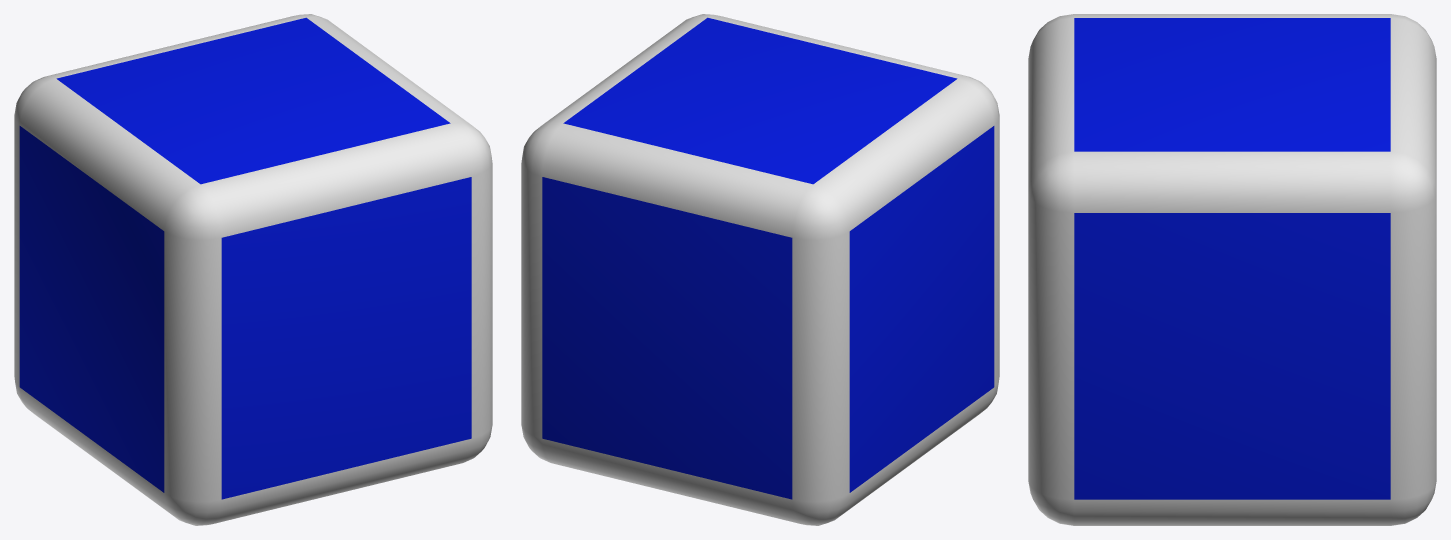
The picture shows the model from 3 angles, left to right: view 1: azimuth 30°, elevation 25°; view 2: azimuth 150°, elevation 25°; view 3: azimuth 270°, elevation 25°; orthographic projection. The views are drawn at different scales.
Parts seen in each view (by area): view 1: Cell_Ref; view 2: Cell_Ref; view 3: Cell_Ref.
Boxes of the visible parts, bbox=[...] form: Cell_Ref: bbox=[14, 14, 492, 525]; Cell_Ref: bbox=[521, 14, 999, 525]; Cell_Ref: bbox=[1028, 14, 1436, 525].
Size of the model in its own units: 200 by 200 by 200.
